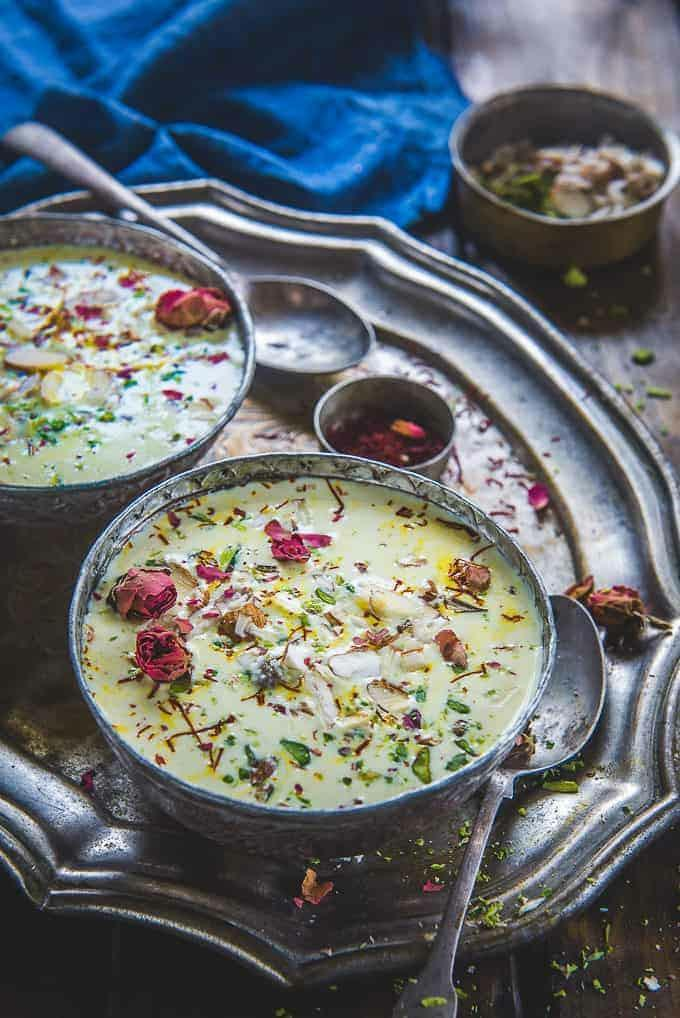Kheer: (81, 480, 541, 809), (0, 242, 245, 486)
